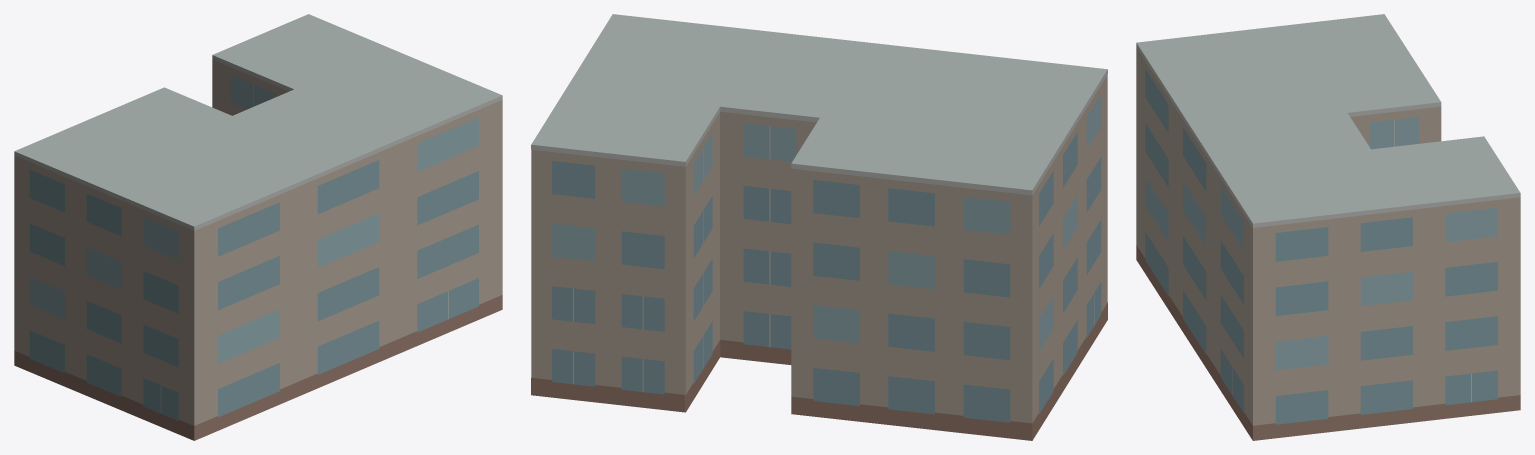
The model's file is residential-494b900e-c43b-498e-8411-b0688c26aa9d.glb.
3 renders of one model, left to right at view 1: azimuth 30°, elevation 25°; view 2: azimuth 150°, elevation 25°; view 3: azimuth 270°, elevation 25°, orthographic. The views are drawn at different scales.
Visible parts, largest first — view 1: residential-494b900e-c43b-498e-8411-b0688c26aa9d.tmp; view 2: residential-494b900e-c43b-498e-8411-b0688c26aa9d.tmp; view 3: residential-494b900e-c43b-498e-8411-b0688c26aa9d.tmp.
Part boxes in pixels (box(x1,y1,x2,y2)): residential-494b900e-c43b-498e-8411-b0688c26aa9d.tmp: box(14, 14, 502, 440); residential-494b900e-c43b-498e-8411-b0688c26aa9d.tmp: box(531, 14, 1107, 440); residential-494b900e-c43b-498e-8411-b0688c26aa9d.tmp: box(1136, 14, 1520, 440).
Bounding box in the file's own units: 25.25 × 12.2 × 19.56.
